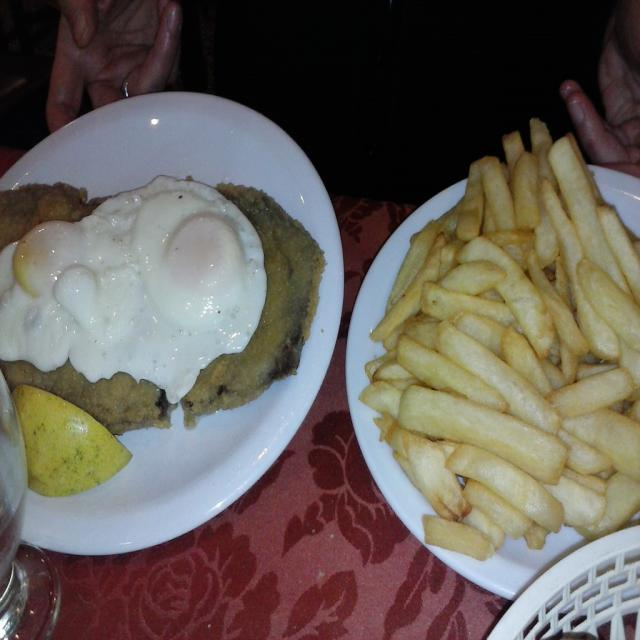non-organic waste: (1, 69, 353, 565)
